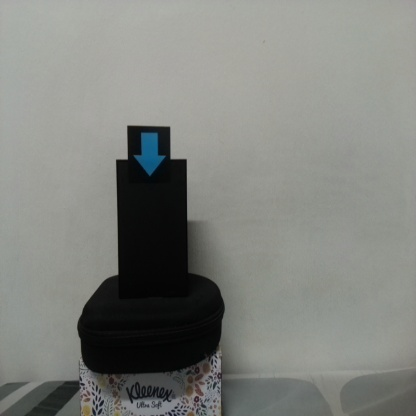id_2: (127, 127, 171, 184)
